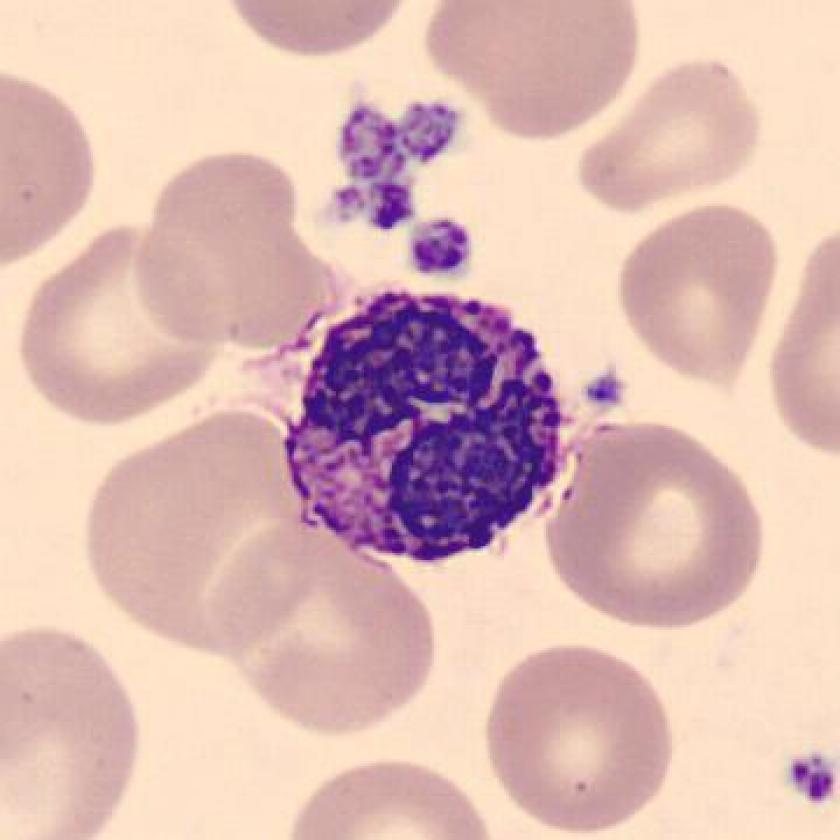basophil: (279, 286, 577, 573)
